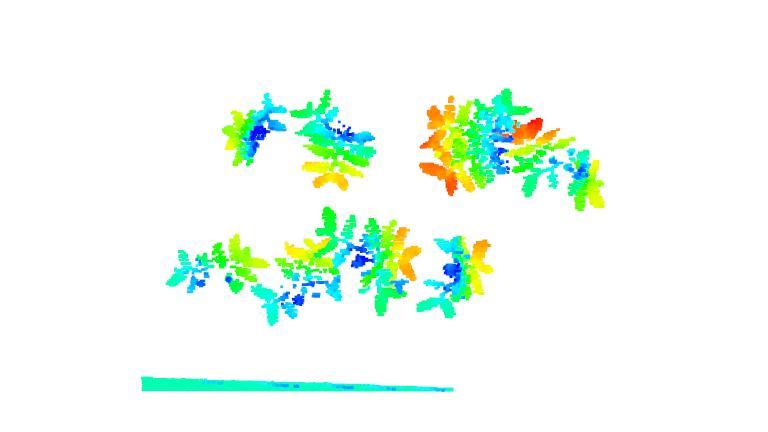chickpea: (420, 87, 535, 196), (316, 205, 419, 319), (506, 119, 608, 214), (292, 86, 379, 193), (250, 236, 337, 327), (162, 233, 272, 298), (416, 237, 495, 320), (218, 90, 290, 171)
